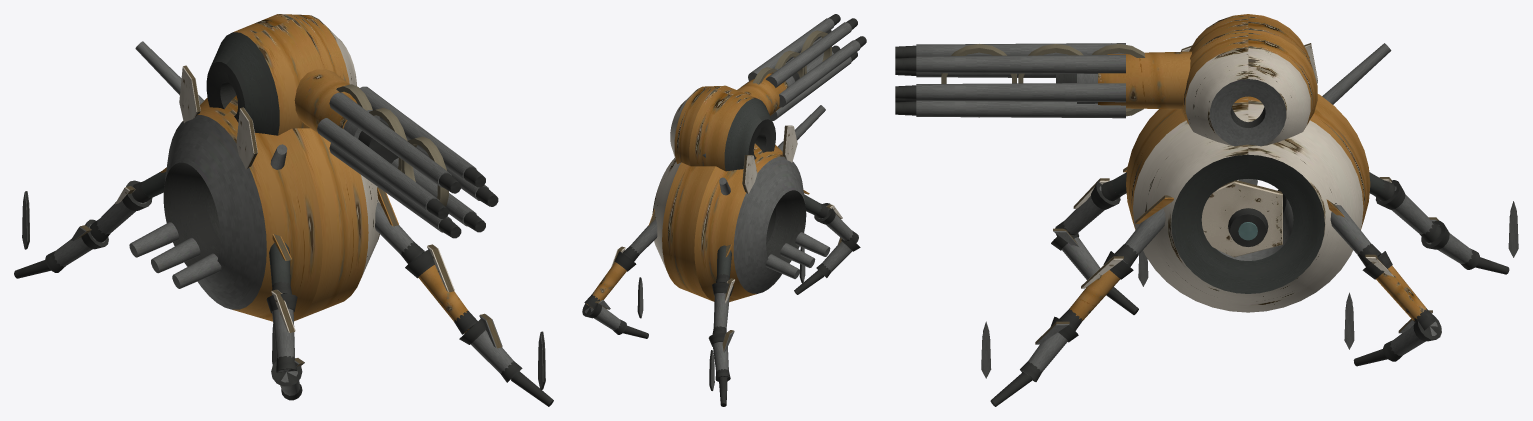
File: turret_drone.glb
3 views of the same model, side by side, from view 1: azimuth 30°, elevation 25°; view 2: azimuth 150°, elevation 25°; view 3: azimuth 270°, elevation 25° (orthographic). The views are drawn at different scales.
Visible parts, largest first — view 1: BodyAssembly, BarrelSpinAssembly, TurretPitchAssembly, LegFLAnkleAssembly, LegFLKneeAssembly, LegBRAnkleAssembly, LegBLKneeAssembly, TailLAssembly, LegFLHipAssembly, LegBRKneeAssembly, TailRAssembly, LegBLHipAssembly (+2 smaller); view 2: BodyAssembly, TurretPitchAssembly, BarrelSpinAssembly, LegBRAnkleAssembly, LegFRAnkleAssembly, LegBLAnkleAssembly, LegFRKneeAssembly, LegBRKneeAssembly, TailRAssembly, LegBLKneeAssembly, LegFRHipAssembly, TailLAssembly (+2 smaller); view 3: BodyAssembly, BarrelSpinAssembly, TurretPitchAssembly, LegFLAnkleAssembly, LegFRAnkleAssembly, LegFLKneeAssembly, LegBRAnkleAssembly, LegFRKneeAssembly, LegBLAnkleAssembly, LegFLHipAssembly, LegBRKneeAssembly, LegBLKneeAssembly (+2 smaller).
Part boxes in pixels (x1,y1,x2,y2): BodyAssembly: (129,95,380,321); BarrelSpinAssembly: (294,69,498,238); TurretPitchAssembly: (206,14,356,135); LegFLAnkleAssembly: (459,313,553,406); LegFLKneeAssembly: (405,244,477,334); LegBRAnkleAssembly: (14,191,108,278); LegBLKneeAssembly: (266,289,297,372); TailLAssembly: (135,41,204,123); LegFLHipAssembly: (375,187,424,264); LegBRKneeAssembly: (90,180,152,242); TailRAssembly: (236,107,287,169); LegBLHipAssembly: (269,234,291,295); BodyAssembly: (652,143,830,301); TurretPitchAssembly: (670,85,775,171); BarrelSpinAssembly: (737,14,866,120); LegBRAnkleAssembly: (708,330,734,406); LegFRAnkleAssembly: (582,277,648,338); LegBLAnkleAssembly: (794,237,860,294); LegFRKneeAssembly: (584,246,636,308); LegBRKneeAssembly: (712,278,734,334); TailRAssembly: (777,105,825,162); LegBLKneeAssembly: (814,203,858,242); LegFRHipAssembly: (622,209,657,261); TailLAssembly: (719,155,757,195); BodyAssembly: (1126,94,1370,312); BarrelSpinAssembly: (895,43,1191,118); TurretPitchAssembly: (1181,14,1317,146); LegFLAnkleAssembly: (981,316,1078,406); LegFRAnkleAssembly: (1344,292,1441,366); LegFLKneeAssembly: (1059,251,1133,330); LegBRAnkleAssembly: (1421,201,1518,274); LegFRKneeAssembly: (1362,251,1437,330); LegBLAnkleAssembly: (1051,228,1148,314); LegFLHipAssembly: (1114,195,1173,266); LegBRKneeAssembly: (1375,177,1441,242); LegBLKneeAssembly: (1055,178,1120,236).
Size of the model in its own units: 0.9011 by 1 by 1.78.
Materials: 1 (1 with a texture image).
